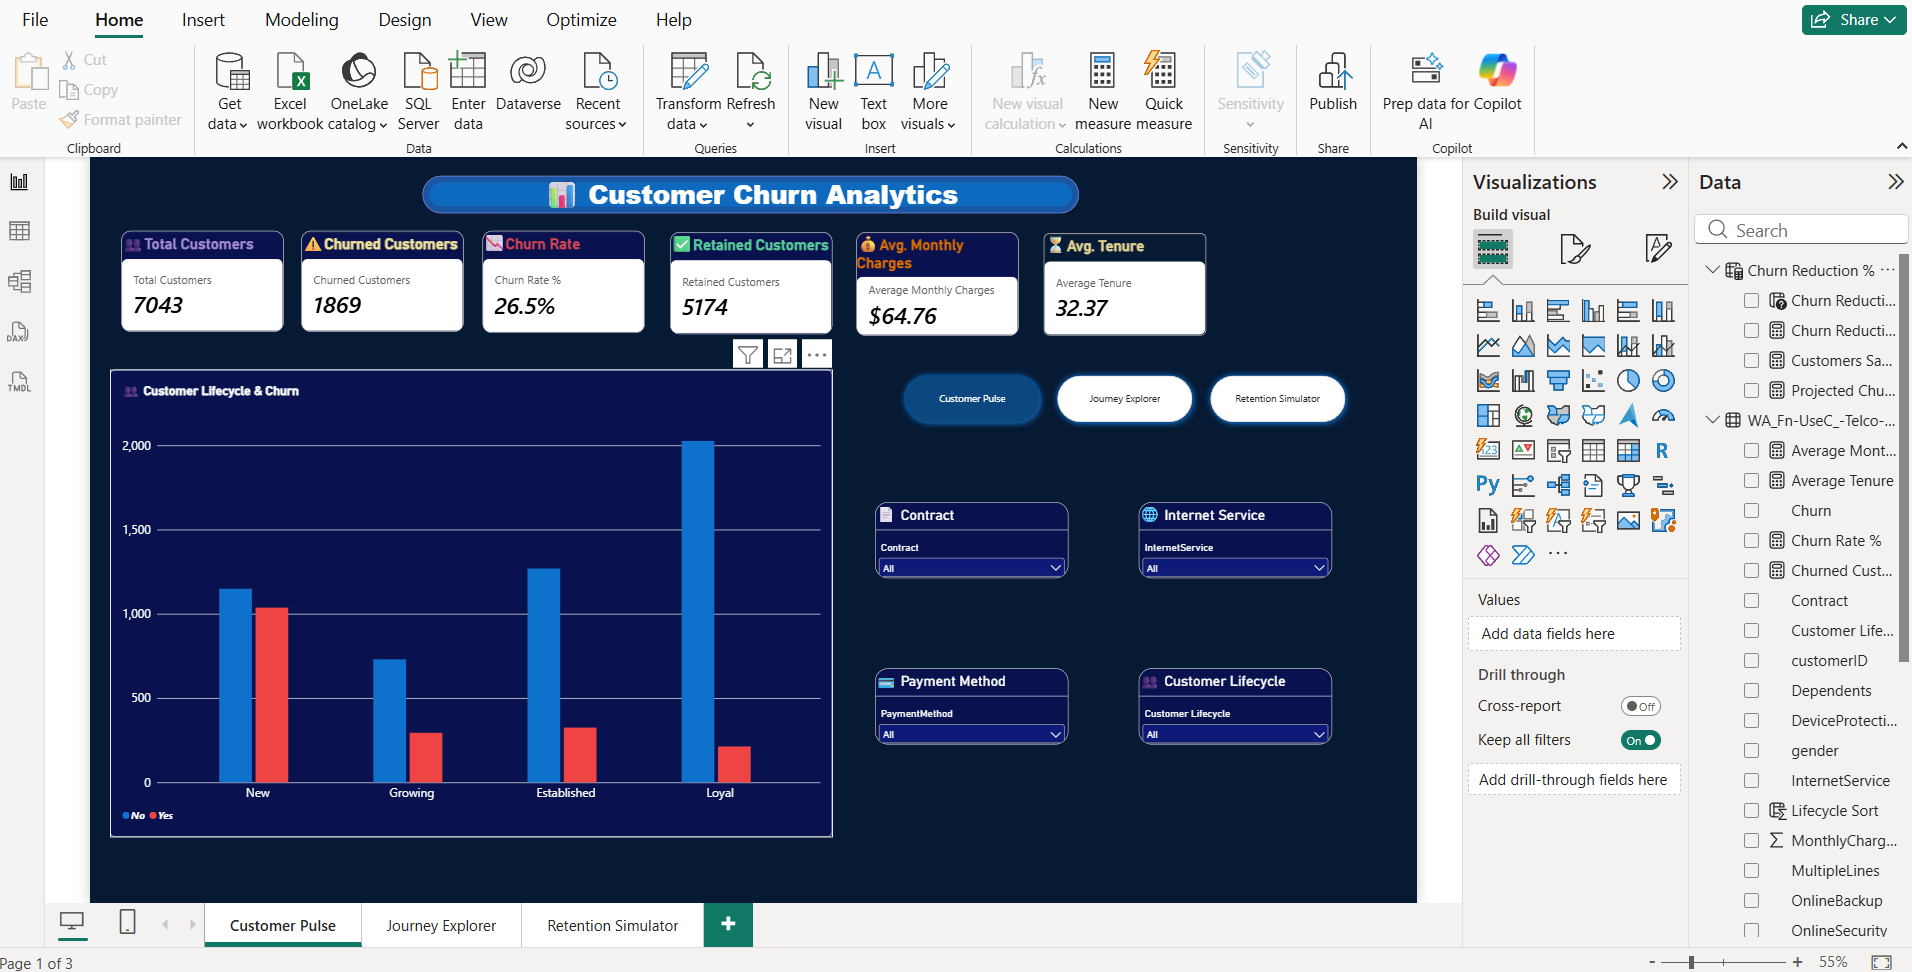

The page's visual inventory and layout, read from the dashboard file:
{"tool":"powerbi","page":{"name":"Customer Pulse","canvas":[1920,1080],"ordinal":0},"visuals":[{"type":"cardVisual","title":"👥Total Customers","fields":{"Data":["WA_Fn-UseC_-Telco-Customer-Churn.Total Customers"]},"box":[45.2,106.8,235.3,146.6],"z":0},{"type":"cardVisual","title":"⚠️Churned Customers","fields":{"Data":["WA_Fn-UseC_-Telco-Customer-Churn.Churned Customers"]},"box":[305.8,106.8,235.3,146.6],"z":1000},{"type":"cardVisual","title":"📉Churn Rate","fields":{"Data":["WA_Fn-UseC_-Telco-Customer-Churn.Churn Rate %"]},"box":[568.2,106.8,235.3,148.4],"z":2000},{"type":"cardVisual","title":"✅Retained Customers","fields":{"Data":["WA_Fn-UseC_-Telco-Customer-Churn.Retained Customers"]},"box":[839.7,108.6,235.3,148.4],"z":3000},{"type":"cardVisual","title":"💰Avg. Monthly Charges","fields":{"Data":["WA_Fn-UseC_-Telco-Customer-Churn.Average Monthly Charges"]},"box":[1109.3,108.6,235.3,150.2],"z":4000},{"type":"cardVisual","title":"⏳Avg. Tenure","fields":{"Data":["WA_Fn-UseC_-Telco-Customer-Churn.Average Tenure"]},"box":[1380.8,110.4,235.3,148.4],"z":5000},{"type":"clusteredColumnChart","title":"👥 Customer Lifecycle & Churn","fields":{"Category":["WA_Fn-UseC_-Telco-Customer-Churn.Customer Lifecycle"],"Series":["WA_Fn-UseC_-Telco-Customer-Churn.Churn"],"Y":["Count(WA_Fn-UseC_-Telco-Customer-Churn.customerID)"]},"box":[29,307.6,1045.6,677.2],"z":6000},{"type":"slicer","title":"📄 Contract","fields":{"Values":["WA_Fn-UseC_-Telco-Customer-Churn.Contract"]},"box":[1136.5,499.5,279.9,110],"z":7000},{"type":"slicer","title":"🌐 Internet Service","fields":{"Values":["WA_Fn-UseC_-Telco-Customer-Churn.InternetService"]},"box":[1518.3,499.5,280,110],"z":8000},{"type":"slicer","title":"💳 Payment Method","fields":{"Values":["WA_Fn-UseC_-Telco-Customer-Churn.PaymentMethod"]},"box":[1136.2,741,280,110],"z":9000},{"type":"slicer","title":"👥 Customer Lifecycle","fields":{"Values":["WA_Fn-UseC_-Telco-Customer-Churn.Customer Lifecycle"]},"box":[1519,741,280,110],"z":10000},{"type":"textbox","title":"📊 Customer Churn Analytics","box":[481.4,27.1,950.1,54.3],"z":11000},{"type":"pageNavigator","box":[1170.9,307.6,655.1,85.1],"z":12000}]}

Visuals, with their boxes on the page's 1920x1080 design canvas (x1, y1, x2, y2). These are canvas units, not pixel positions in the 1912x972 screenshot, which may show the page scaled, cropped or inside an application window:
"👥Total Customers" cardVisual: {"left": 45, "top": 107, "right": 280, "bottom": 253}
"⚠️Churned Customers" cardVisual: {"left": 306, "top": 107, "right": 541, "bottom": 253}
"📉Churn Rate" cardVisual: {"left": 568, "top": 107, "right": 804, "bottom": 255}
"✅Retained Customers" cardVisual: {"left": 840, "top": 109, "right": 1075, "bottom": 257}
"💰Avg. Monthly Charges" cardVisual: {"left": 1109, "top": 109, "right": 1345, "bottom": 259}
"⏳Avg. Tenure" cardVisual: {"left": 1381, "top": 110, "right": 1616, "bottom": 259}
"👥 Customer Lifecycle & Churn" clusteredColumnChart: {"left": 29, "top": 308, "right": 1075, "bottom": 985}
"📄 Contract" slicer: {"left": 1136, "top": 500, "right": 1416, "bottom": 610}
"🌐 Internet Service" slicer: {"left": 1518, "top": 500, "right": 1798, "bottom": 610}
"💳 Payment Method" slicer: {"left": 1136, "top": 741, "right": 1416, "bottom": 851}
"👥 Customer Lifecycle" slicer: {"left": 1519, "top": 741, "right": 1799, "bottom": 851}
"📊 Customer Churn Analytics" textbox: {"left": 481, "top": 27, "right": 1432, "bottom": 81}
pageNavigator: {"left": 1171, "top": 308, "right": 1826, "bottom": 393}
